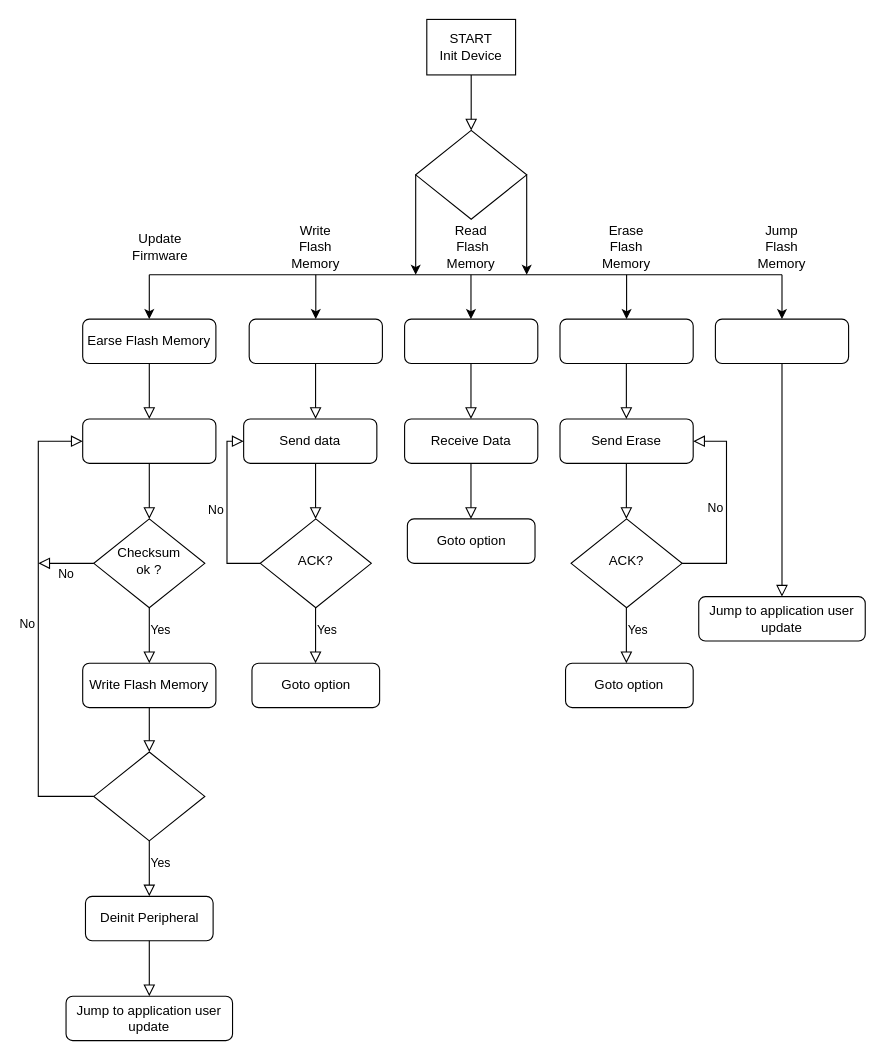
This 885x1060 diagram has some shape labels left out. Each missing label, with the centre of its shape:
Cplt Update ?: (149,796)
Erase Flash: (626,341)
Jump Flash: (781,341)
Option: (471,174)
Read Flash: (470,341)
Receive a hex file: (149,440)
Write Flash: (315,341)
